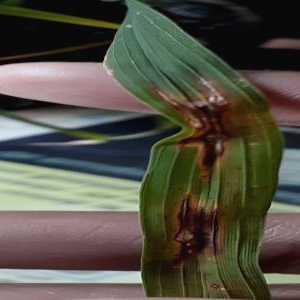Brown_Spot: (167, 184, 236, 262), (186, 77, 234, 131), (194, 124, 240, 174)
